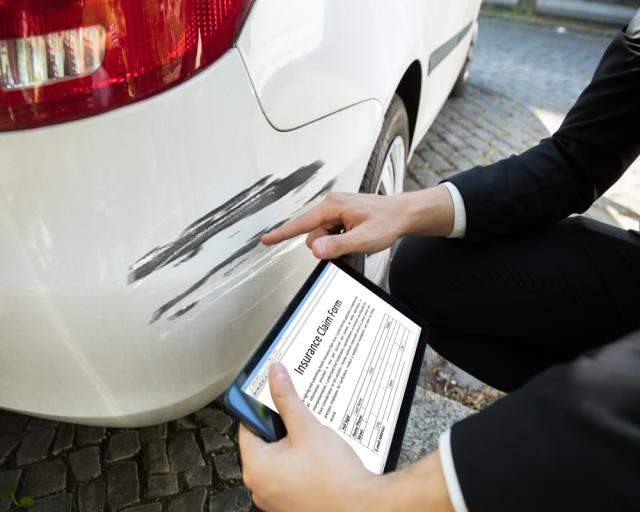scratch: (117, 157, 337, 336)
